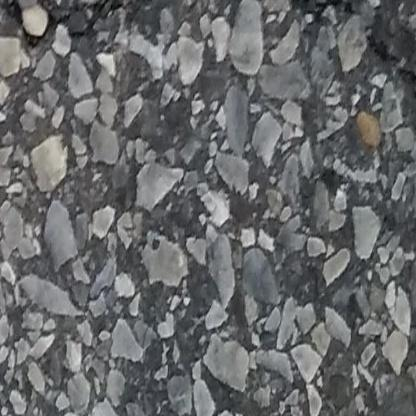Cracks: (0, 0, 188, 55), (364, 19, 416, 129), (279, 0, 367, 31)
